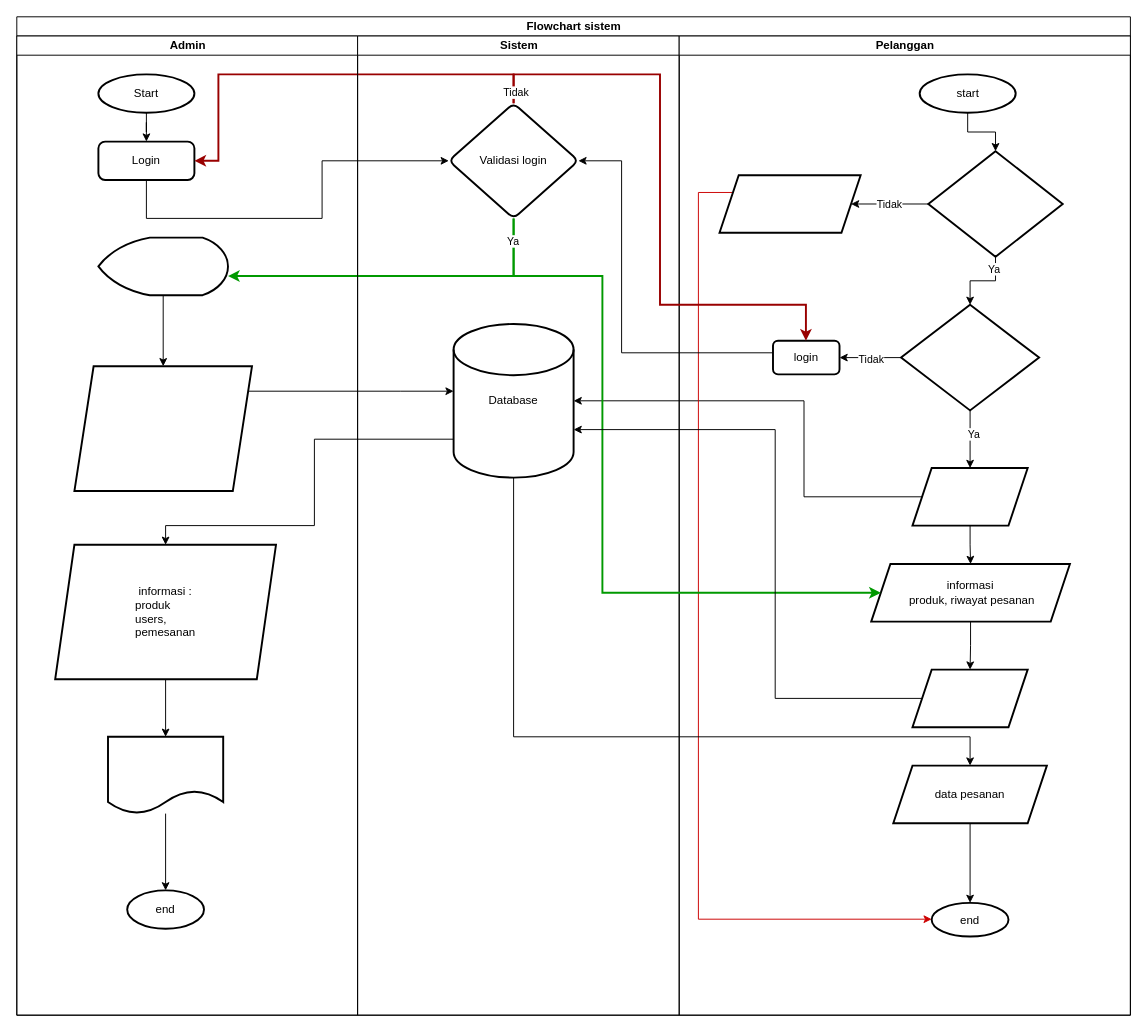
This 1147x1032 diagram has some shape labels left out. Here are the shapes that lost their labels. From the top down, the centre of each, then its label:
At [789,203]: "melihat data produk".
At [995,203]: "apakah ingin pesan produk?".
At [162,266]: "Dashboard admin".
At [970,357]: "apakah pelanggan baru?".
At [162,428]: "kelola data: produk pelanggan, transaksi detail transaksi".
At [969,496]: "daftar akun".
At [969,698]: "input dat a pemesanan".
At [165,774]: "Laporan transaksi laporan pelanggan".
